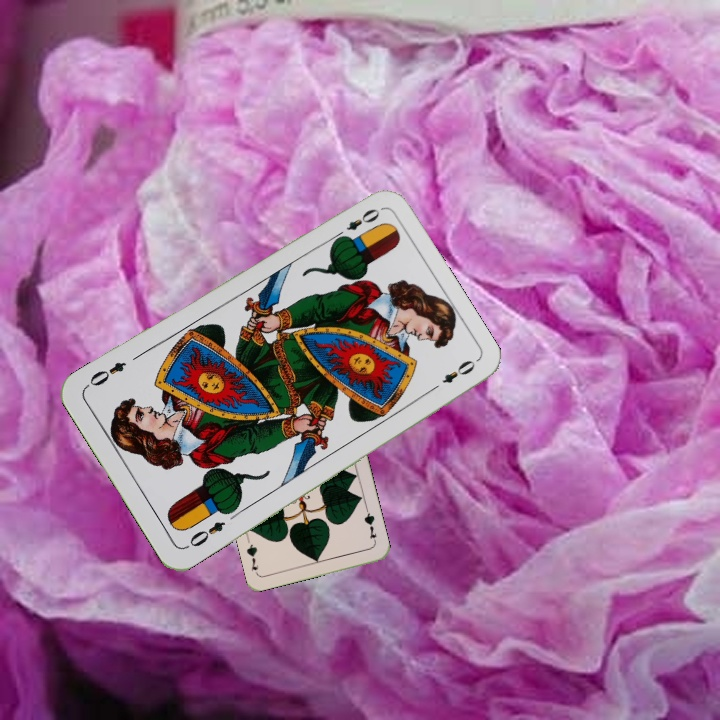EO: (330, 204, 383, 243), (181, 517, 228, 552)
G7: (360, 506, 379, 546)
